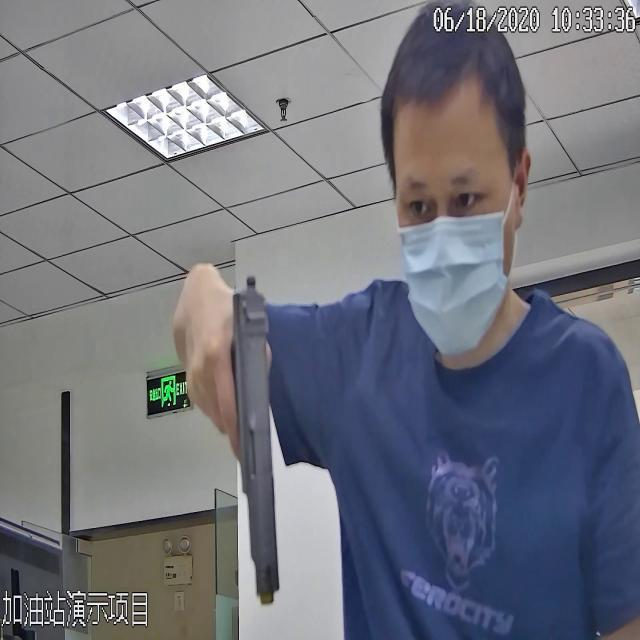gun-knife-thesis - v11 Yolov5 augmented: (189, 276, 283, 608)
